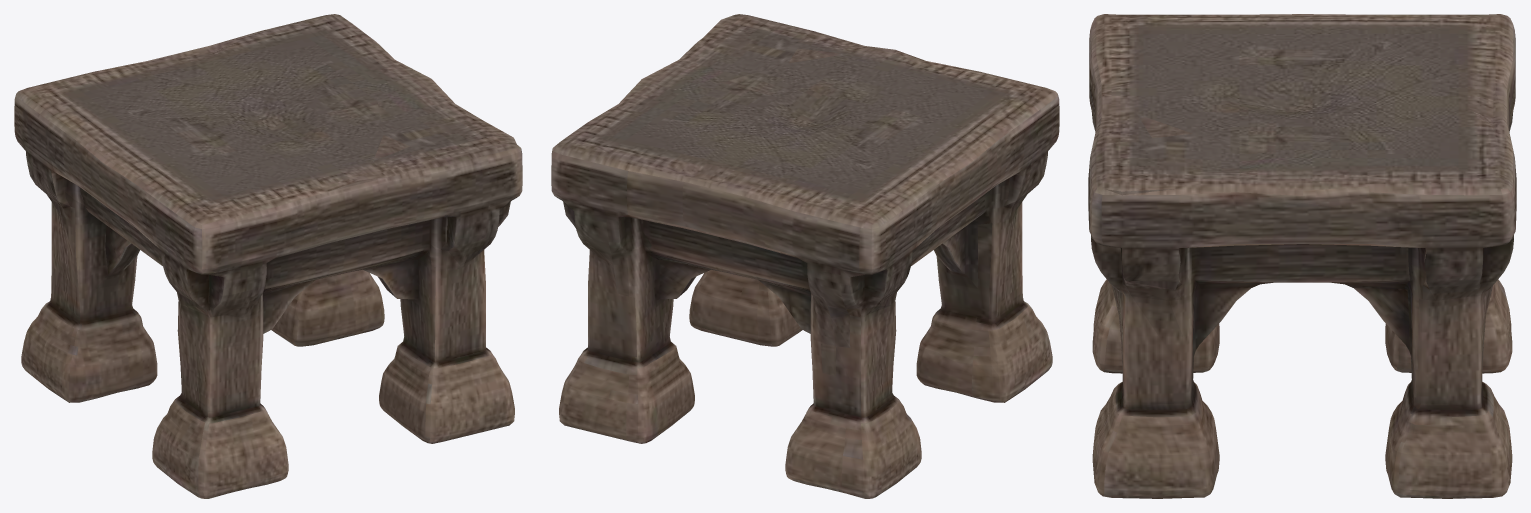
Rendered from stool_wood.glb.
3 views of the same model, side by side, from view 1: azimuth 30°, elevation 25°; view 2: azimuth 150°, elevation 25°; view 3: azimuth 270°, elevation 25° (orthographic). The views are drawn at different scales.
Size of the model in its own units: 1.9 by 1.56 by 1.89.
1 material, 1 textured.
